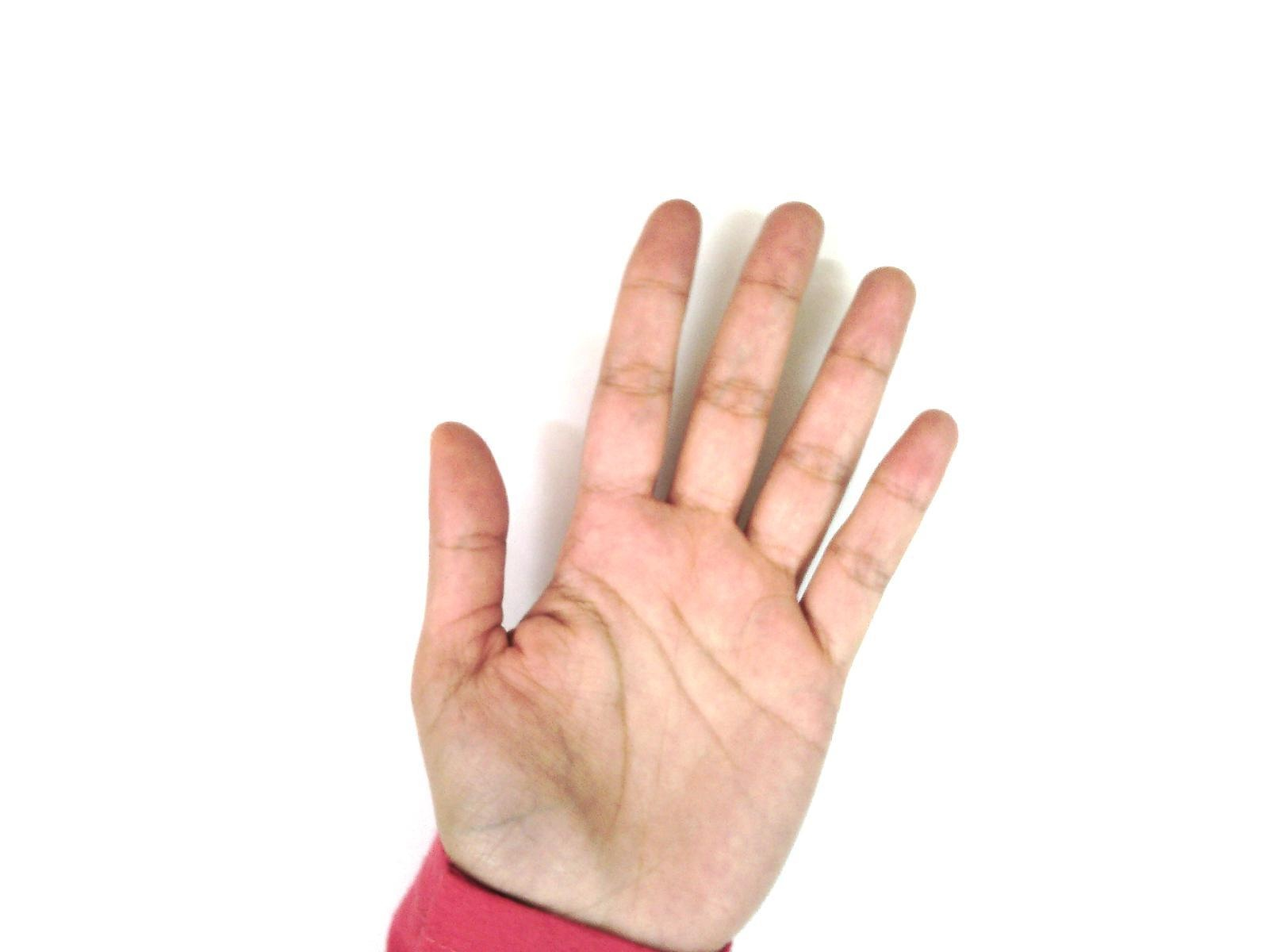open_palm: (407, 197, 961, 949)
